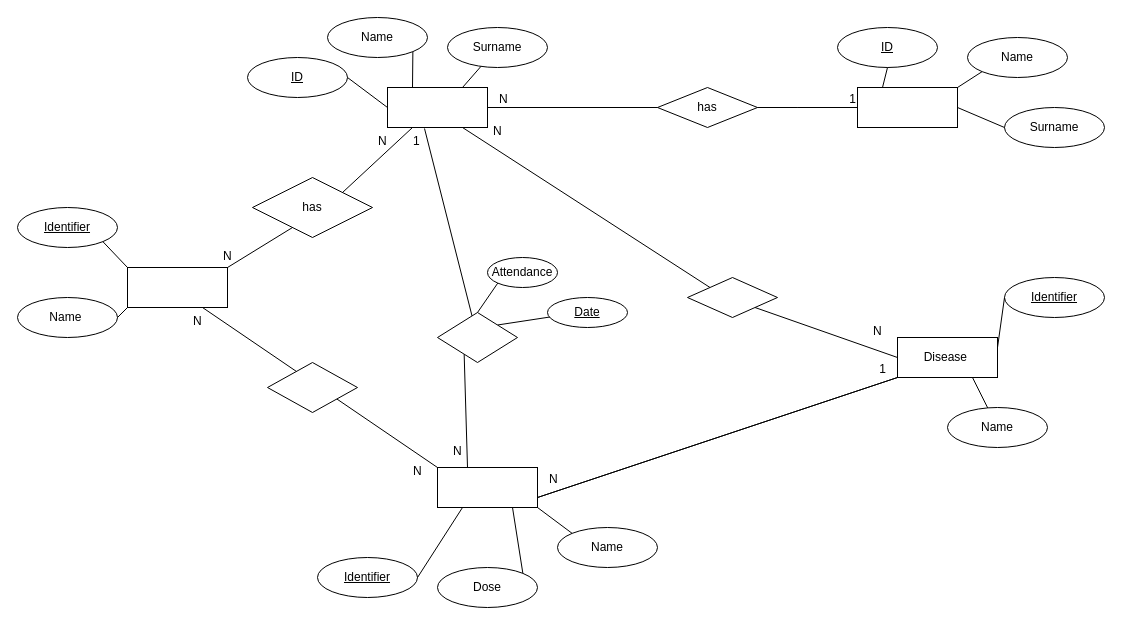
The diagram is 1122 pixels wide and 625 high, and some of its shapes have lost their labels. The centre of each missing label's shape, as x and y in pixels:
Condition: [177,287]
Doctor: [907,107]
is immune: [732,297]
not compatible: [312,387]
Patient: [437,107]
puts: [477,337]
Vaccine: [487,487]
